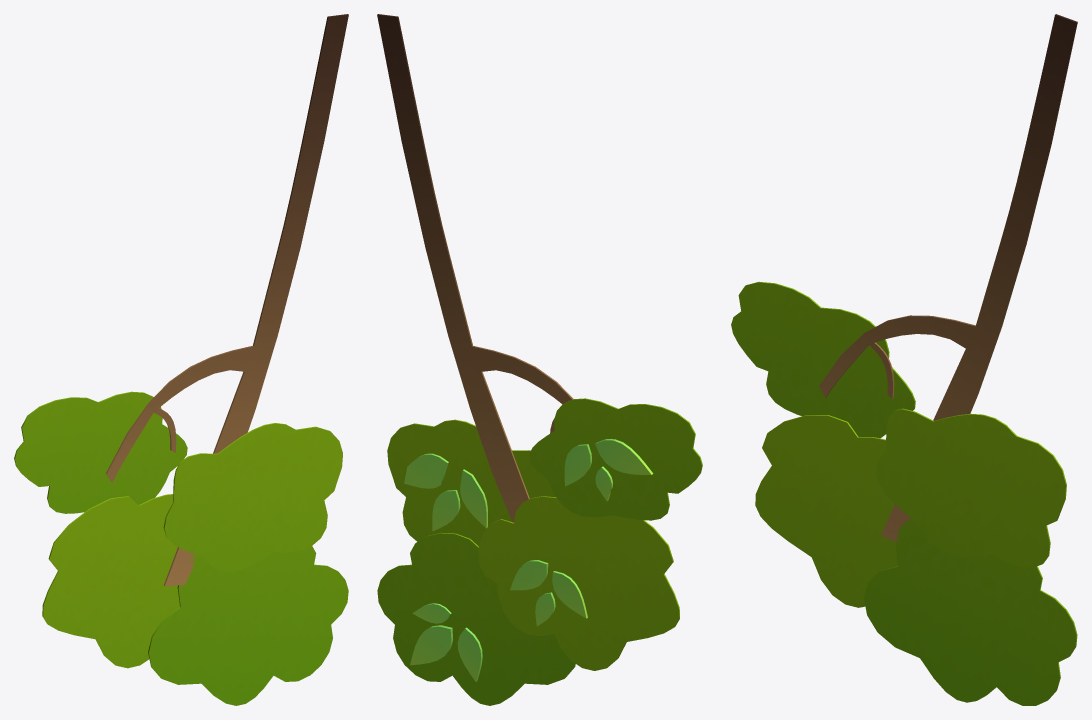
Rendered from obj-boom-8.FBX.
3 views of the same model, side by side, from view 1: azimuth 30°, elevation 25°; view 2: azimuth 150°, elevation 25°; view 3: azimuth 330°, elevation 25° (orthographic). The views are drawn at different scales.
Visible parts, largest first — view 1: boom 8; view 2: boom 8; view 3: boom 8.
Boxes of the visible parts, x1,y1,x2,y2 form: boom 8: (14, 14, 348, 705); boom 8: (377, 14, 702, 705); boom 8: (731, 14, 1077, 705).
Size of the model in its own units: 9.57 by 18.5 by 0.4888.
Materials: 1 (1 with a texture image).
